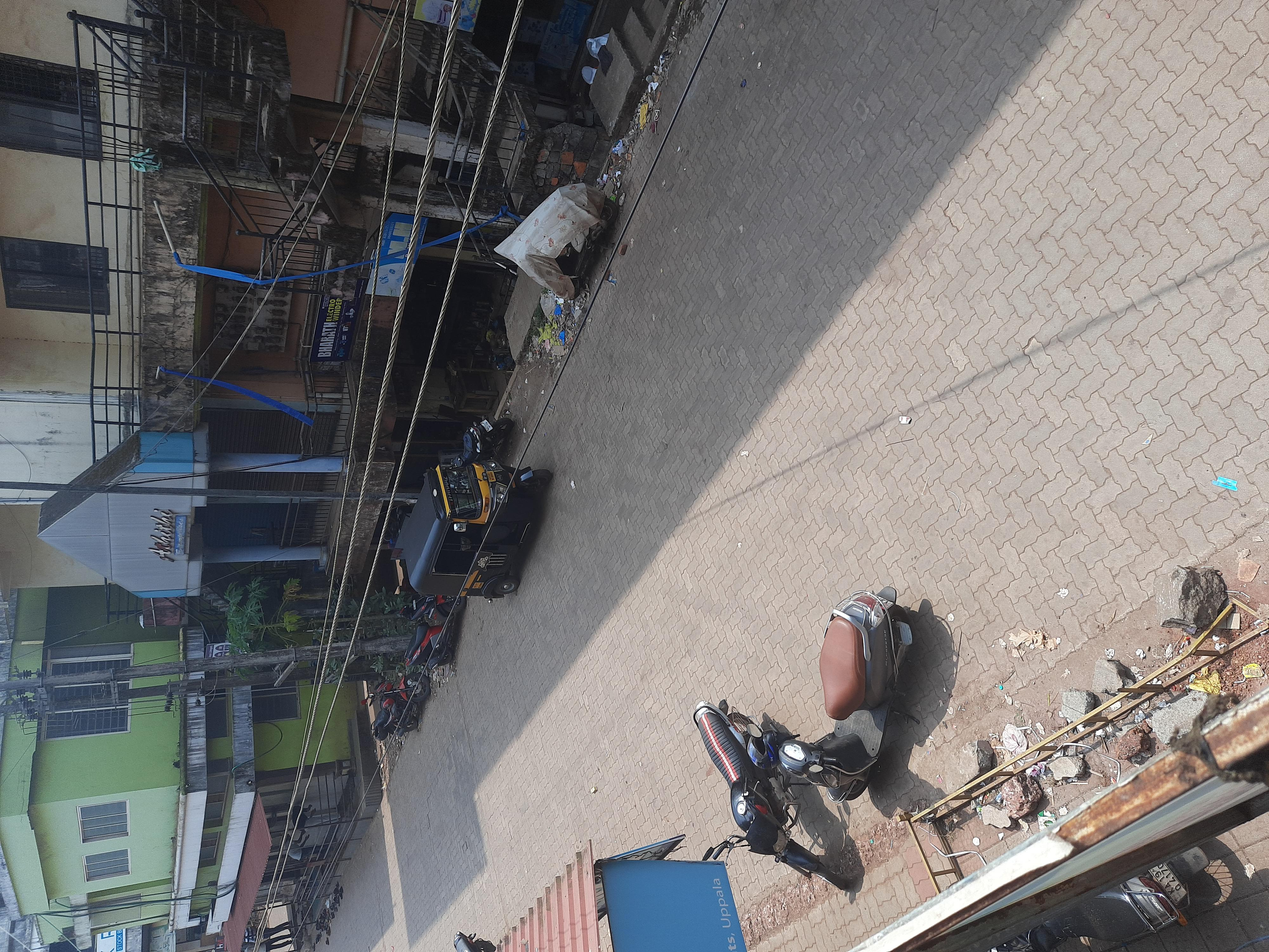Auto: (442, 294, 679, 418)
